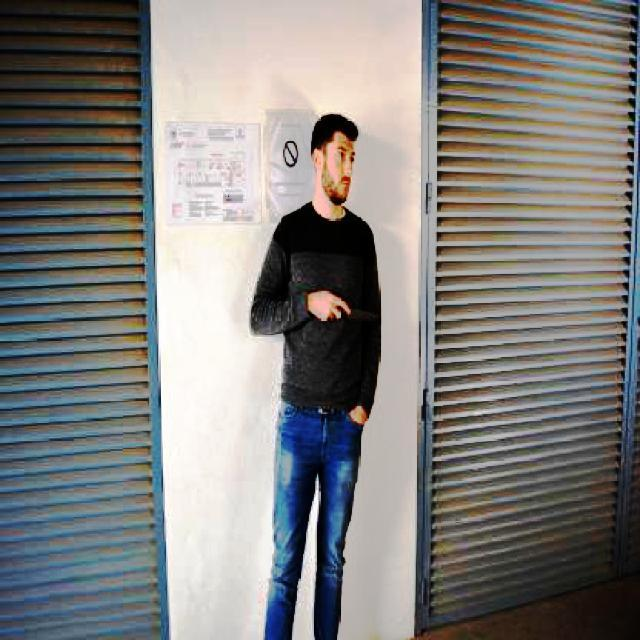Knife: (328, 300, 390, 329)
